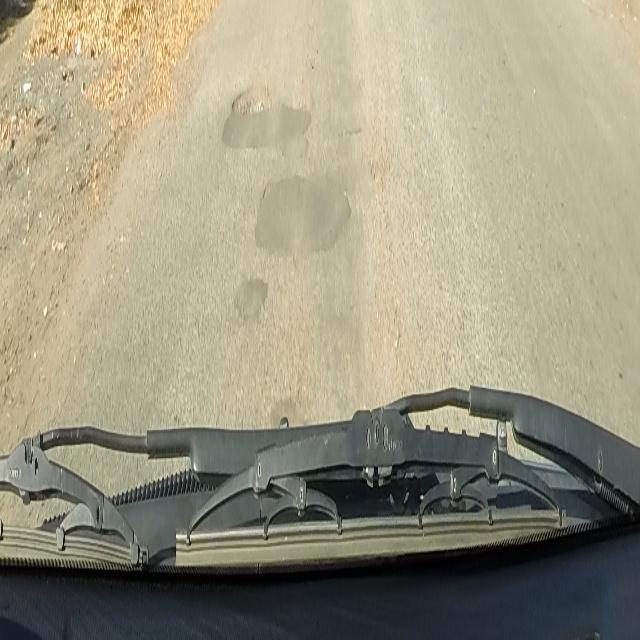pothole: (229, 75, 274, 116)
